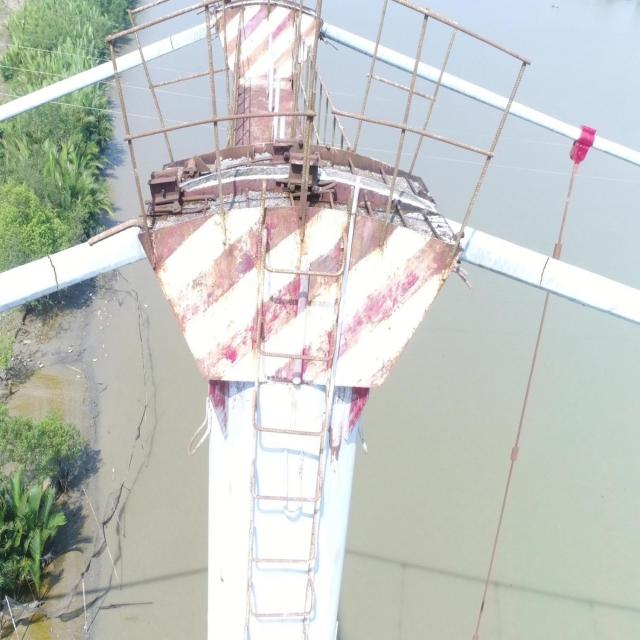crack: (539, 257, 550, 289), (48, 256, 58, 290), (169, 36, 174, 50)
